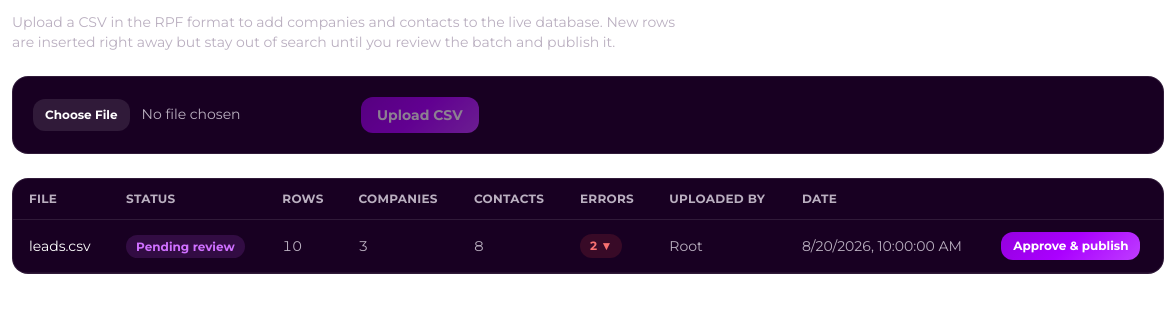
Test: AdminExtendDatabase › lists a pending batch with its counts and an expandable error list
Check: the text "leads.csv" is shown, box left=13, top=220, right=110, bottom=272
Check: the text "Pending review" is shown, box left=126, top=235, right=245, bottom=258
Click the button "2 ▼": (601, 246) left=580, top=234, right=622, bottom=258
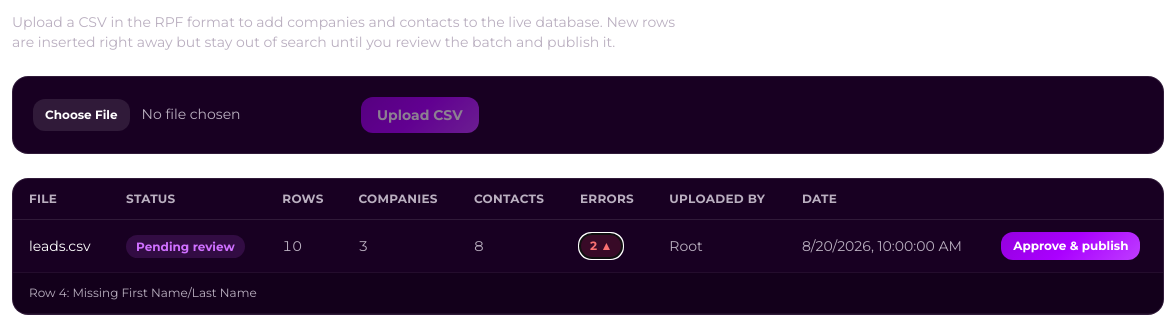
Check: the list item "Row 4: Missing First Name/Last Name" is shown, box left=29, top=285, right=257, bottom=300
